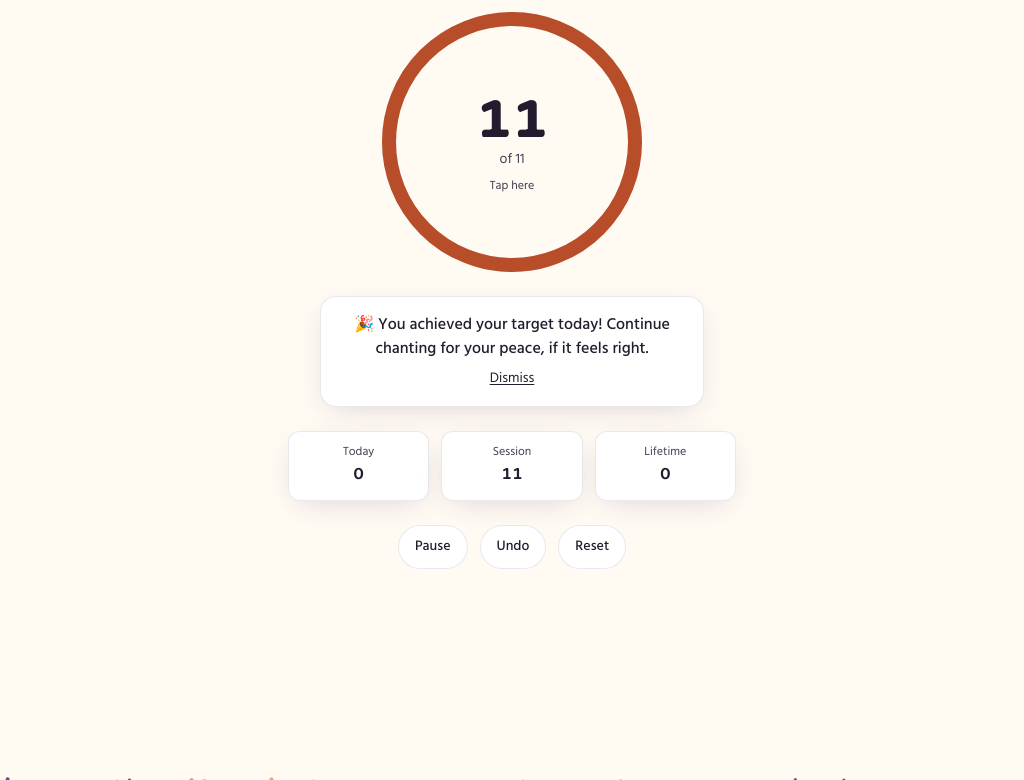
it: TapCounterArea — target completion celebration › lets the user dismiss the celebration message
expect the text "You achieved your target today" is shown: met, box [354,312,670,362]
Click the button "Dismiss" at (512, 379), box [490,369,534,389]
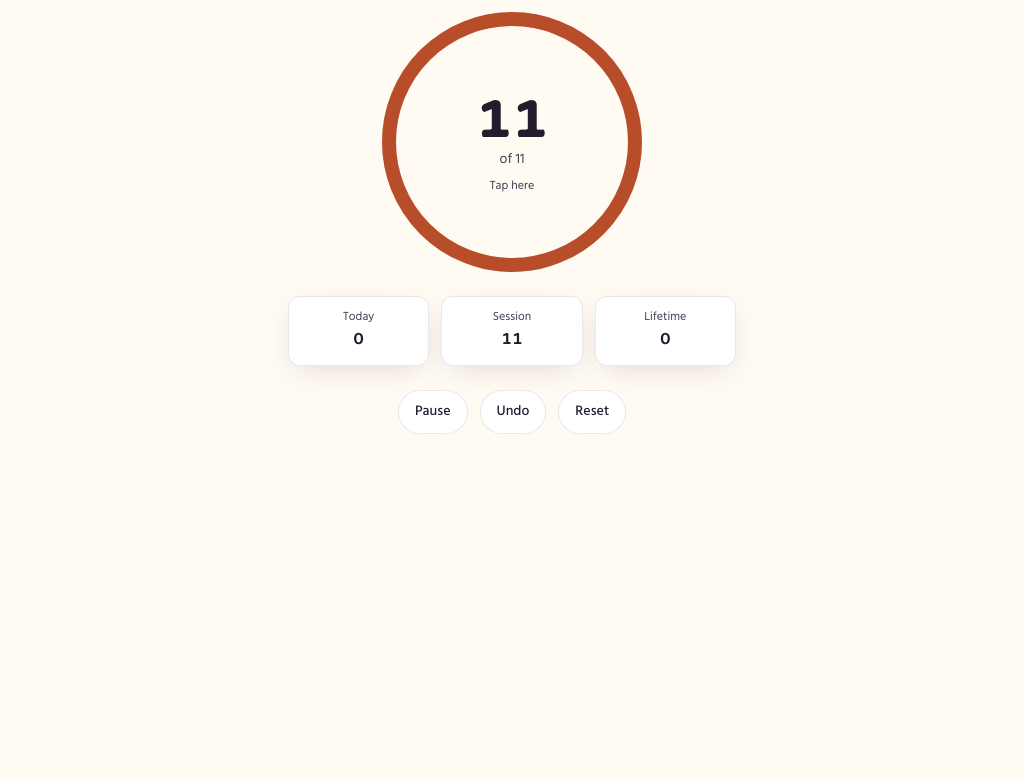
expect the text "You achieved your target today" is gone: met
